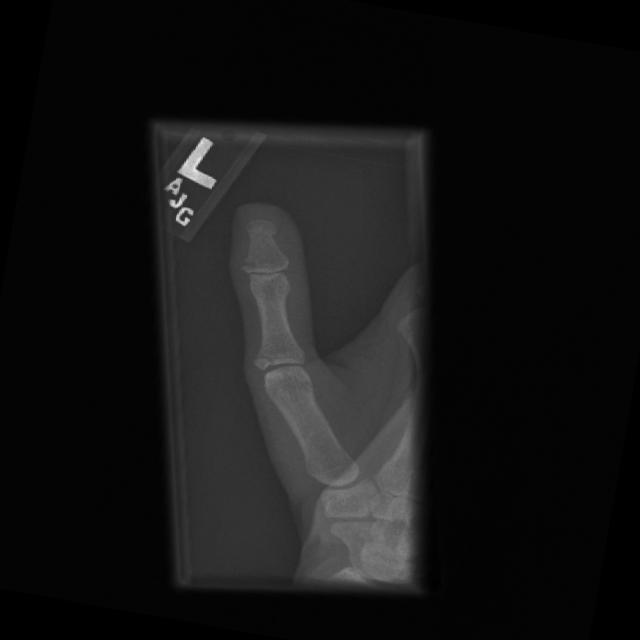fingers positive: (247, 341, 282, 375), (235, 253, 266, 278)
